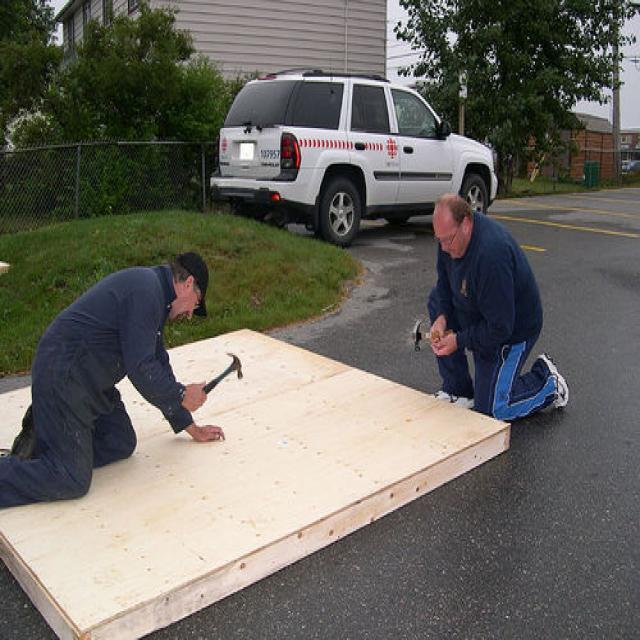hammer: (178, 346, 248, 418), (407, 314, 458, 354)
